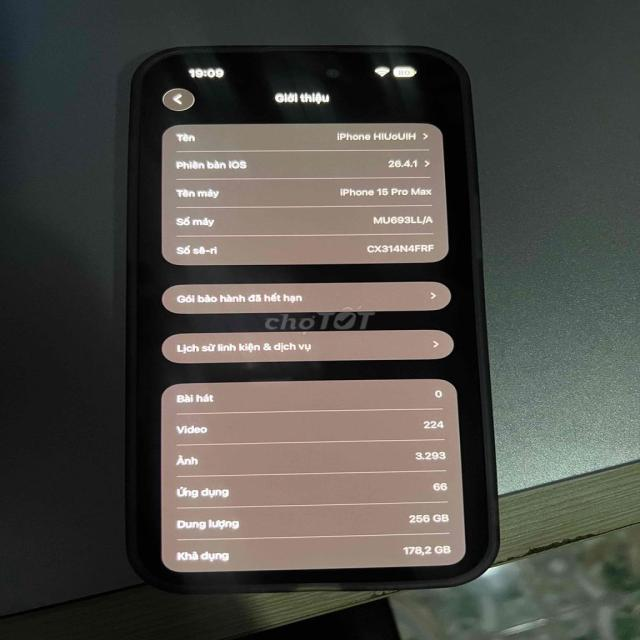gen_15: (130, 33, 511, 611)
